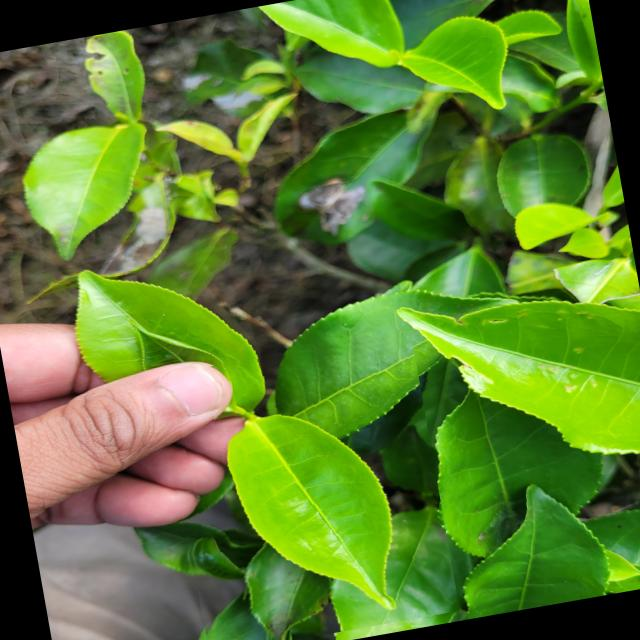Category B(2-4 days): (152, 328, 460, 640)
